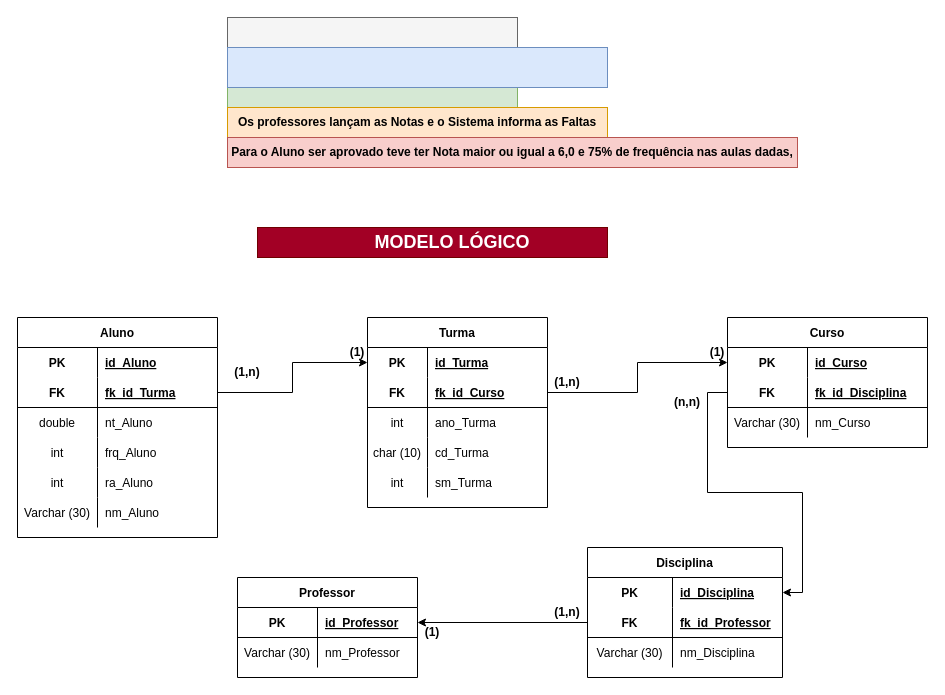
The diagram is 945 pixels wide and 695 high, and some of its shapes have lost their labels. Each missing label, with the centre of its shape:
"As Turmas pertencem a um determinado Curso." belongs at [372,97].
"Os Alunos têm Disciplinas específicas em cada Ano e Semestre Letivo" belongs at [417,67].
"Os dados dos Alunos que Turmas estuda ou estudou" belongs at [372,32].
